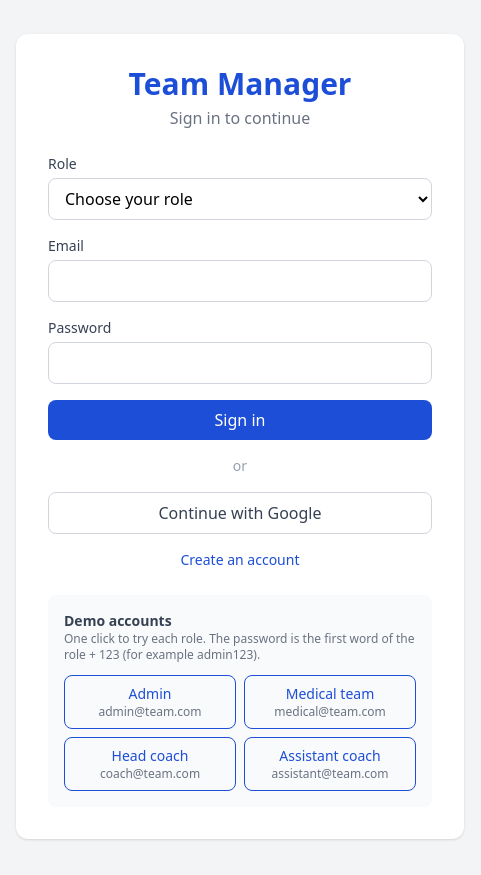
it: google button needs a role first
Click the button "Continue with Google" at (240, 512), box left=48, top=492, right=432, bottom=534
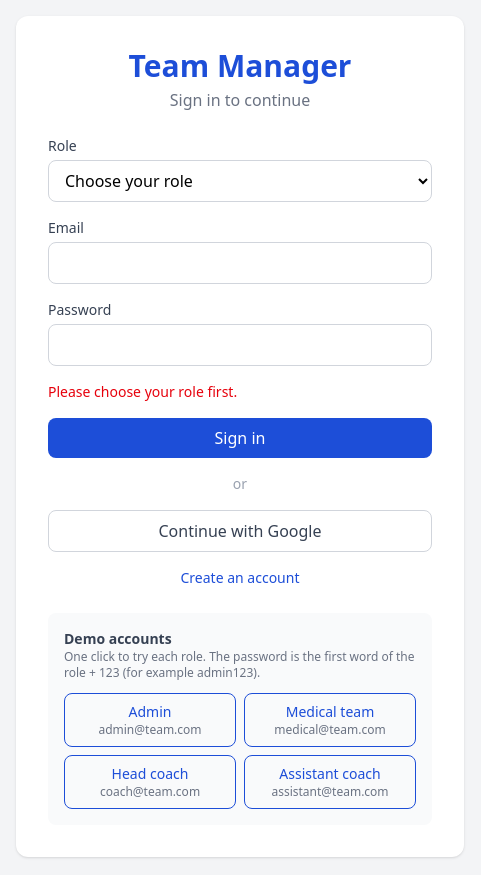
Result: the text "Please choose your role first." is shown at left=48, top=382, right=237, bottom=400
